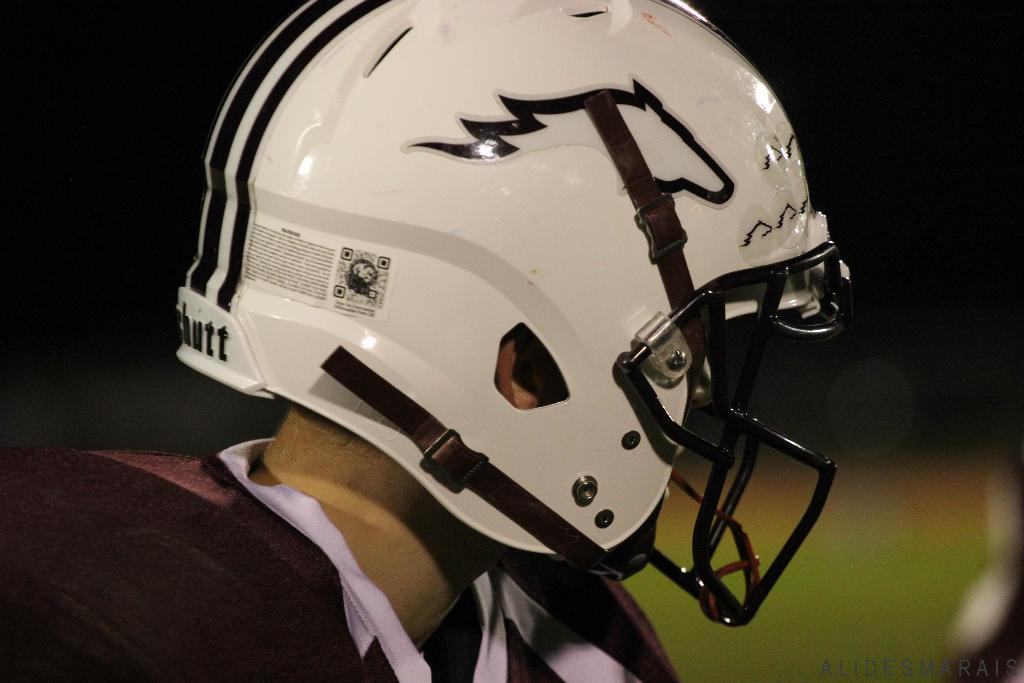Person: (0, 0, 850, 683)
